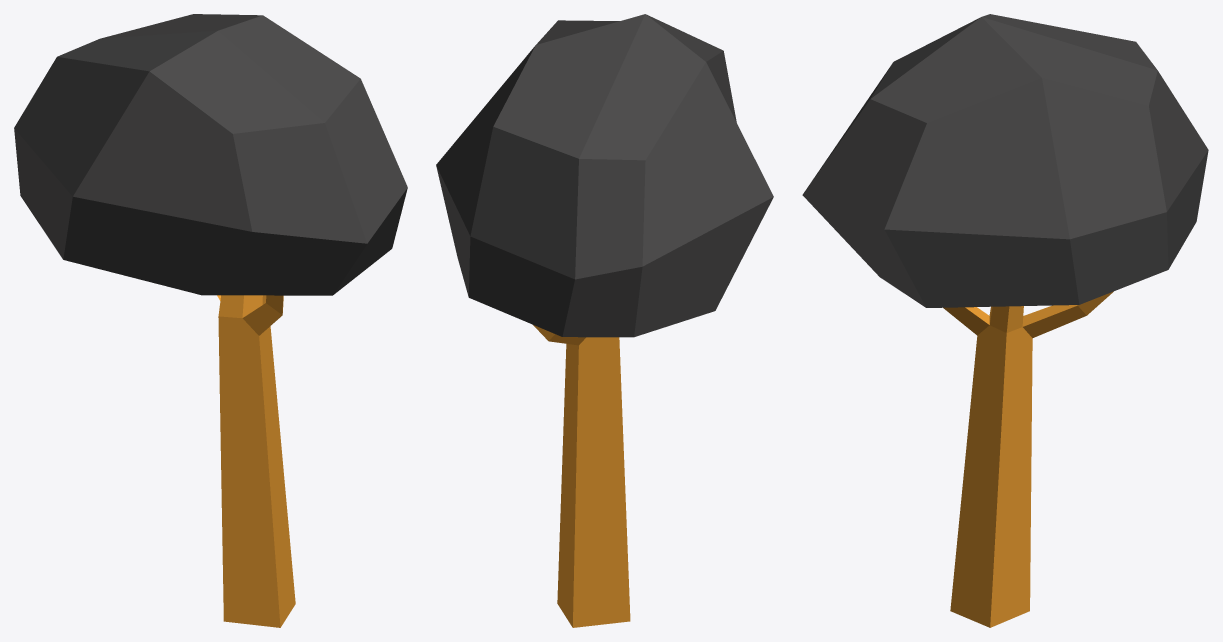
File: oak_5.obj
The picture shows the model from 3 angles, left to right: view 1: azimuth 30°, elevation 25°; view 2: azimuth 150°, elevation 25°; view 3: azimuth 270°, elevation 25°; orthographic projection. The views are drawn at different scales.
Visible parts, largest first — view 1: oak_5; view 2: oak_5; view 3: oak_5.
Part boxes in pixels (box(x1,y1,x2,y2)): oak_5: box(14, 14, 407, 627); oak_5: box(436, 14, 773, 627); oak_5: box(802, 14, 1208, 627).
Size of the model in its own units: 10.47 by 20.18 by 12.98.
